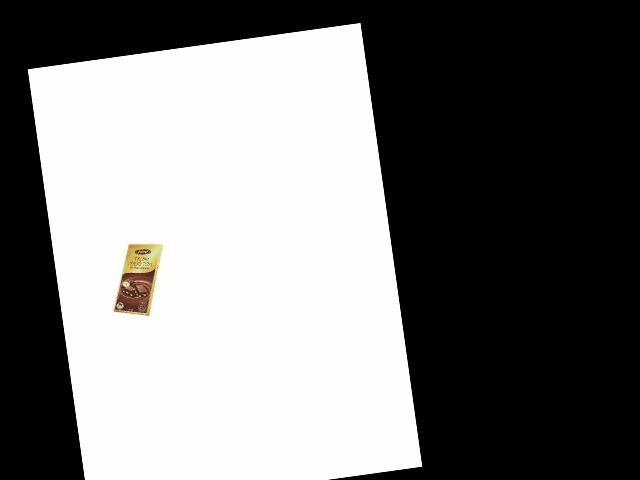chocolate: (104, 239, 175, 327)
